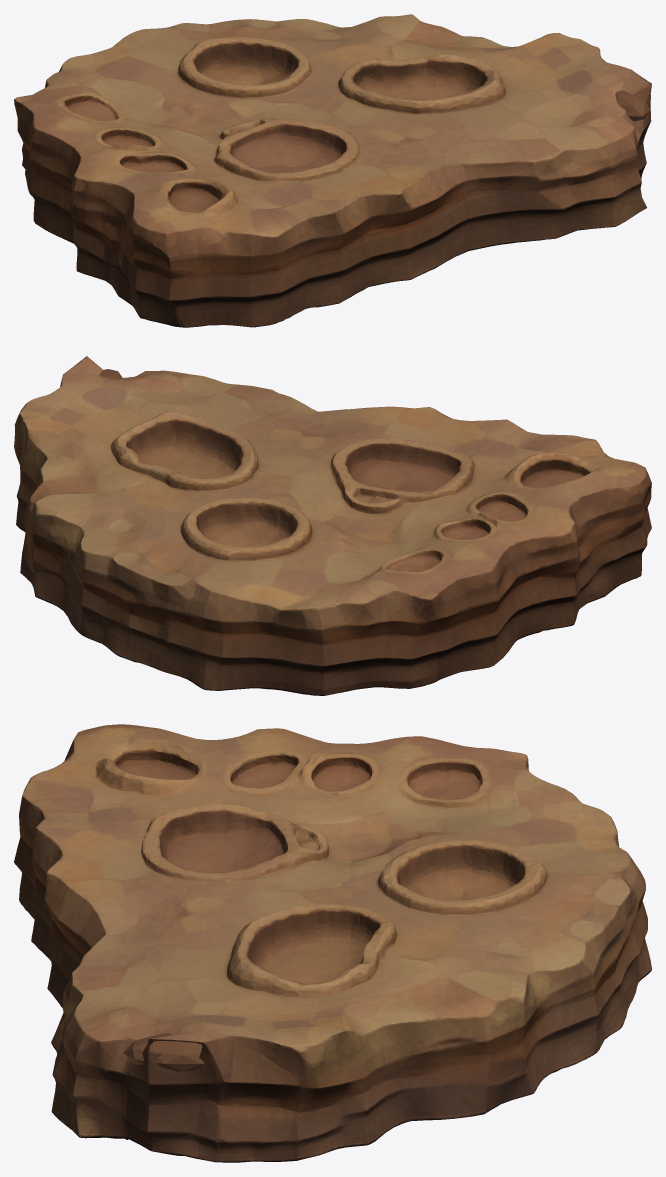
The picture shows the model from 3 angles, top to bottom: view 1: azimuth 30°, elevation 25°; view 2: azimuth 150°, elevation 25°; view 3: azimuth 270°, elevation 25°; orthographic projection. The views are drawn at different scales.
Parts seen in each view (by area): view 1: world; view 2: world; view 3: world.
Boxes of the visible parts, x1,y1,x2,y2 form: world: (14,14,651,327); world: (14,356,651,695); world: (14,724,651,1162).
Bounding box in the file's own units: 0.38 × 0.07 × 0.3166.
Materials: 1 (1 with a texture image).
